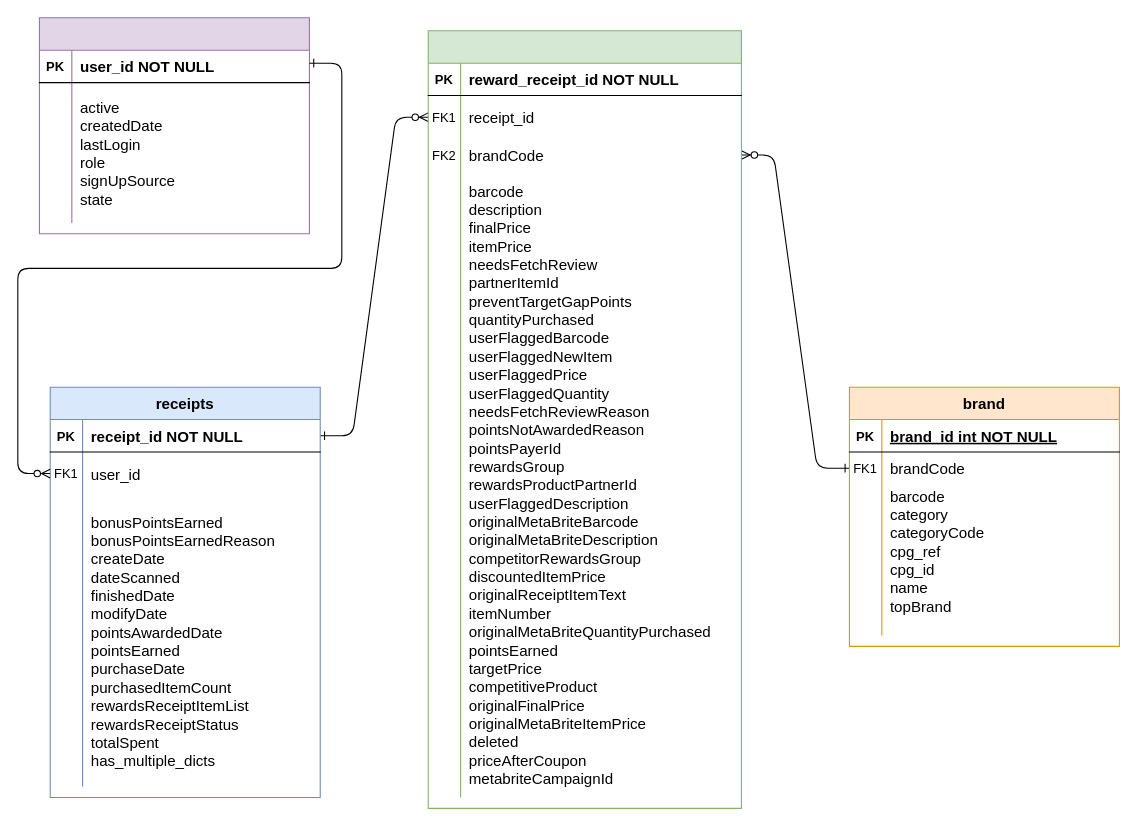
This 1137x826 diagram has some shape labels left out. Each missing label, with the box of its shape:
rewardReceipts: (427, 30, 741, 808)
users: (38, 17, 309, 234)
